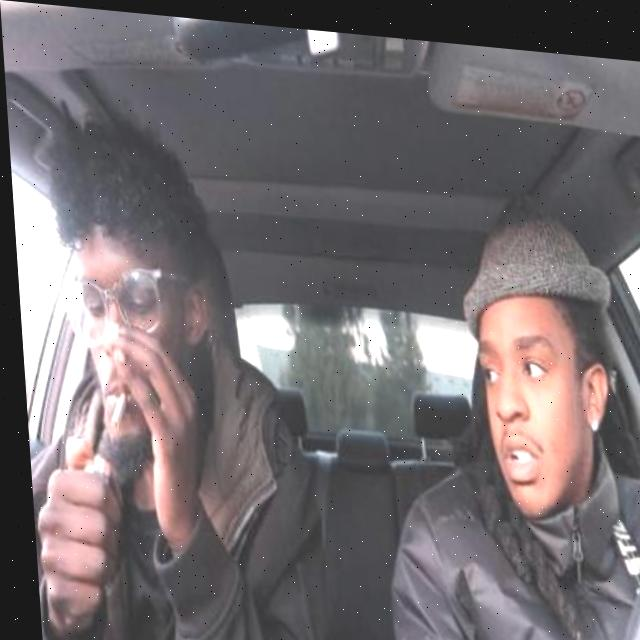cigarette: (102, 390, 125, 432)
